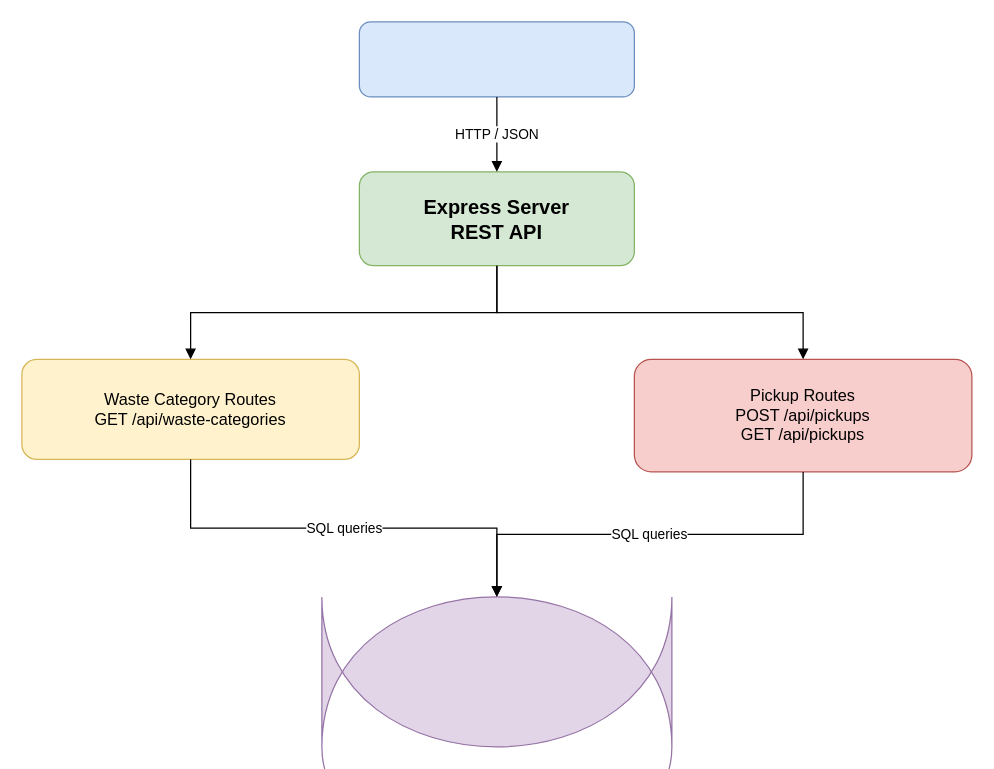
Image size: 994x769. Some labels were removed from this diagram. The centre of each missing label's shape, as x and y in pixels:
"MySQL Database waste_categories pickups" goes at [496,671].
"User / Client" goes at [496,59].
